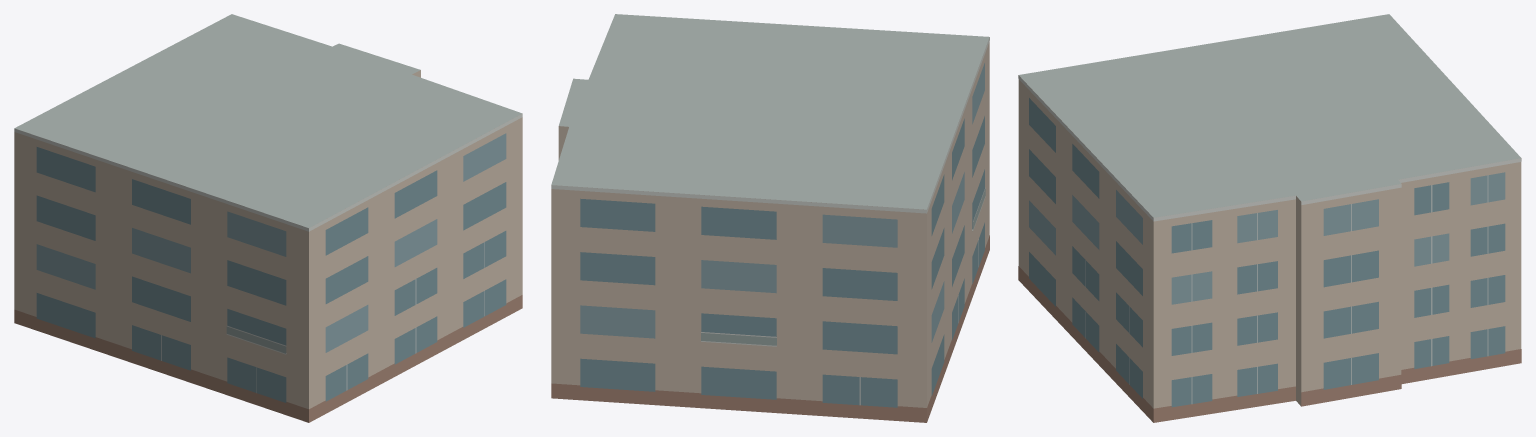
File: survey-upis-32856560.glb
The picture shows the model from 3 angles, left to right: view 1: azimuth 30°, elevation 25°; view 2: azimuth 150°, elevation 25°; view 3: azimuth 270°, elevation 25°; orthographic projection. The views are drawn at different scales.
Parts seen in each view (by area): view 1: survey-upis-32856560.tmp; view 2: survey-upis-32856560.tmp; view 3: survey-upis-32856560.tmp.
Part boxes in pixels (x1=…): survey-upis-32856560.tmp: x1=14, y1=14, x2=522, y2=422; survey-upis-32856560.tmp: x1=551, y1=14, x2=989, y2=422; survey-upis-32856560.tmp: x1=1018, y1=14, x2=1521, y2=422.
Bounding box in the file's own units: 28.57 × 13.4 × 29.79.
